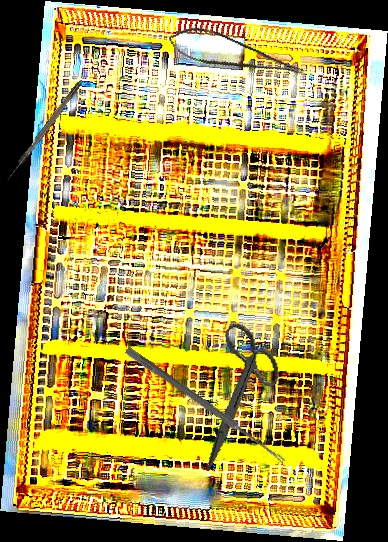Hook Surgical: (4, 80, 84, 182)
Iris Scissors: (175, 316, 298, 472)
Micro Scissor: (163, 15, 307, 100)
Surgical Spoon: (123, 346, 288, 465)
